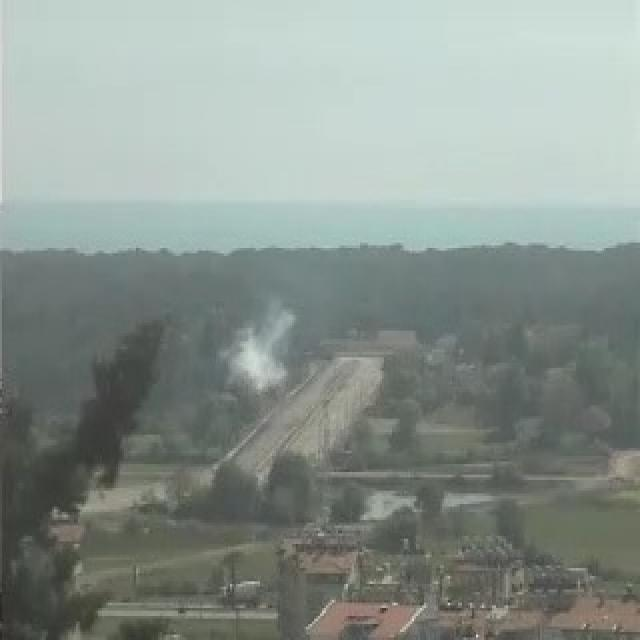smoke: (220, 302, 298, 393)
